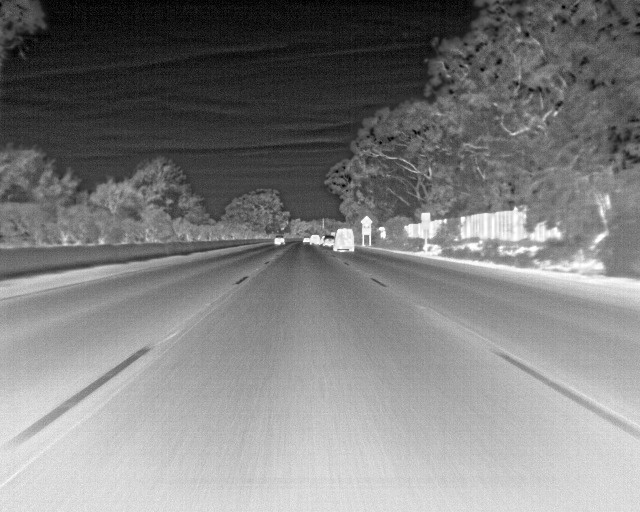vehicle: (335, 228, 355, 255)
